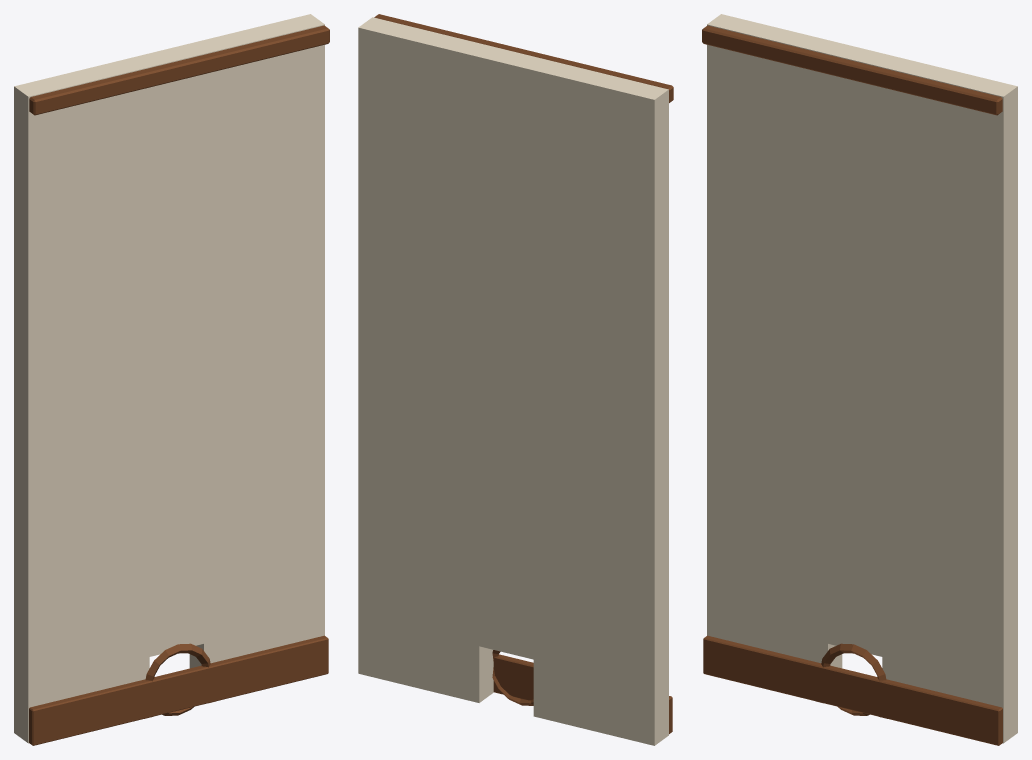
The model's file is wall_mousehole.fbx.
3 renders of one model, left to right at view 1: azimuth 30°, elevation 25°; view 2: azimuth 150°, elevation 25°; view 3: azimuth 330°, elevation 25°, orthographic.
Visible parts, largest first — view 1: wall_mousehole; view 2: wall_mousehole; view 3: wall_mousehole.
Boxes of the visible parts, x1,y1,x2,y2 form: wall_mousehole: (14, 14, 329, 745); wall_mousehole: (358, 14, 673, 745); wall_mousehole: (702, 14, 1017, 745).
Size of the model in its own units: 1.2 by 2.53 by 0.14.
